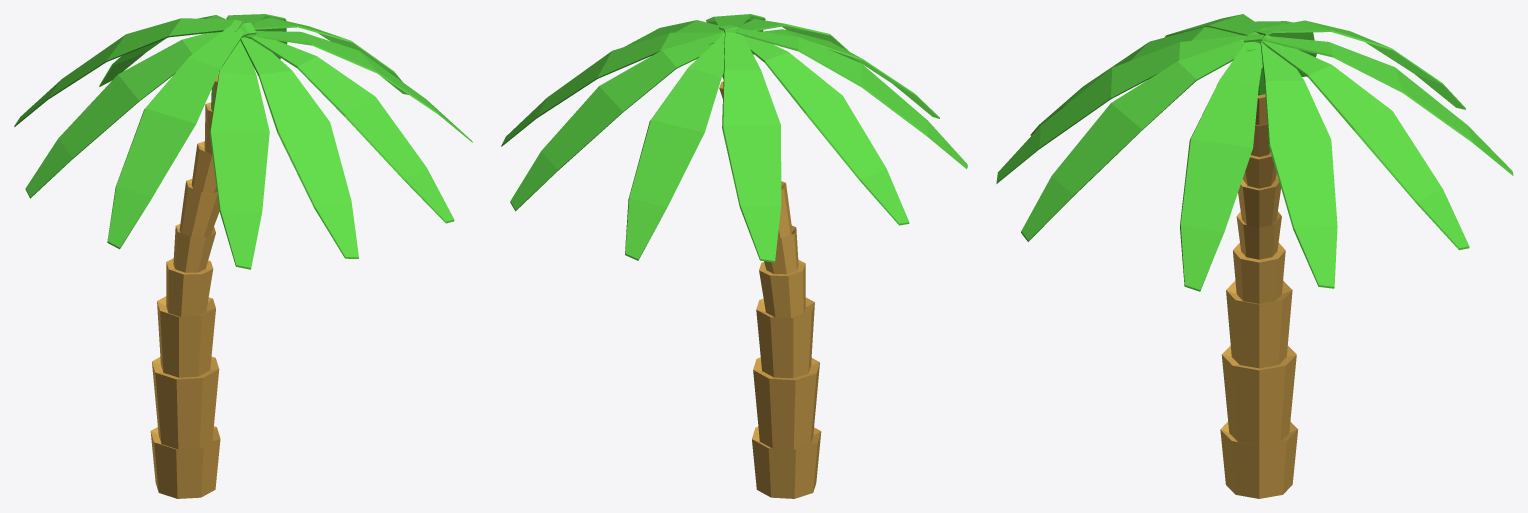
File: low_poly_palm.glb
3 views of the same model, side by side, from view 1: azimuth 30°, elevation 25°; view 2: azimuth 150°, elevation 25°; view 3: azimuth 270°, elevation 25° (orthographic). The views are drawn at different scales.
Visible parts, largest first — view 1: Cylinder; view 2: Cylinder; view 3: Cylinder.
Part boxes in pixels (x1,y1,x2,y2): Cylinder: [14, 14, 472, 498]; Cylinder: [501, 14, 967, 498]; Cylinder: [996, 14, 1513, 498].
Bounding box in the file's own units: 94 × 102 × 98.91.
